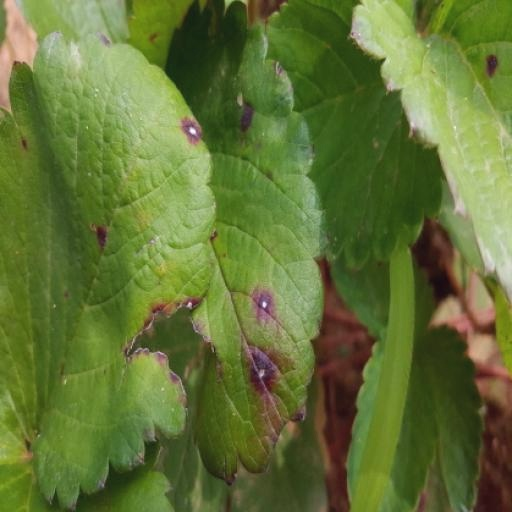Leaf Spot: (295, 29, 511, 511), (184, 0, 348, 487)
